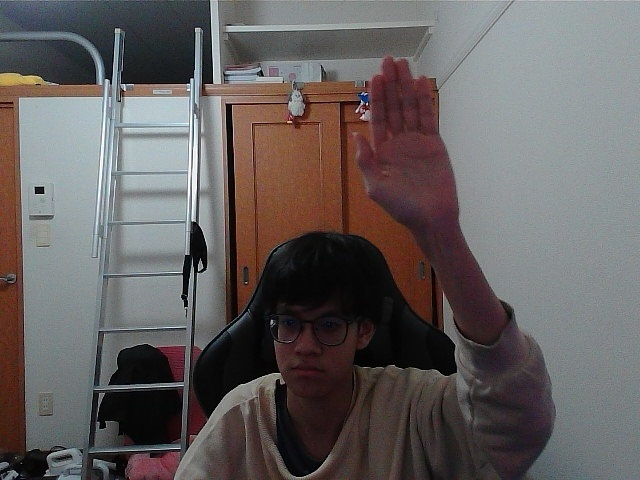open_palm: (360, 65, 433, 212)
